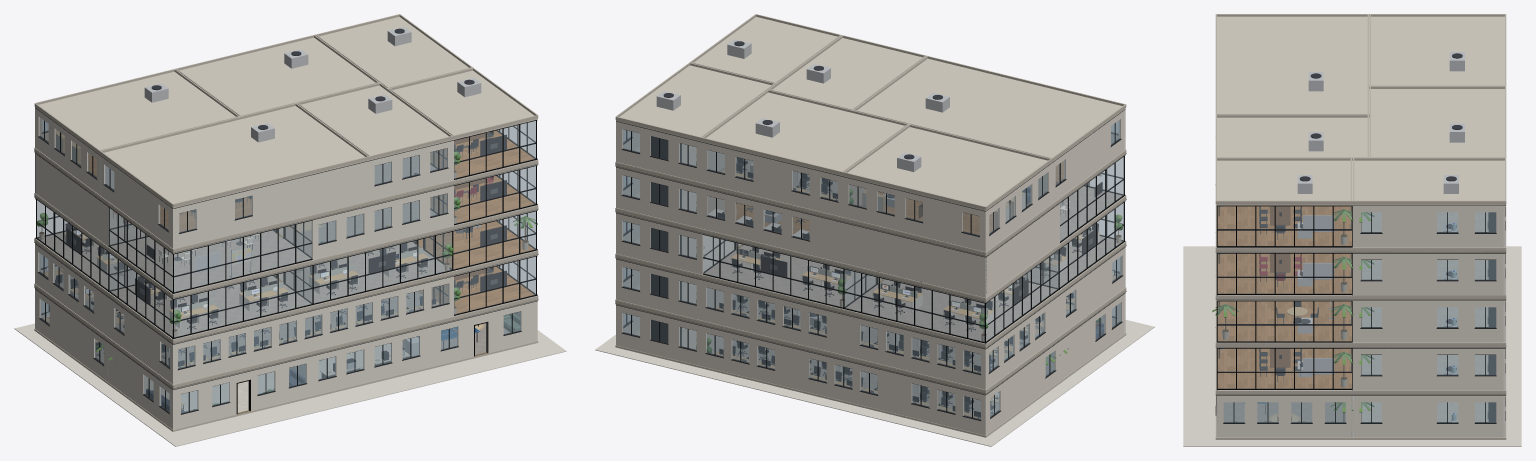
File: torre-5-andares.glb
3 views of the same model, side by side, from view 1: azimuth 30°, elevation 25°; view 2: azimuth 150°, elevation 25°; view 3: azimuth 270°, elevation 25° (orthographic). The views are drawn at different scales.
Parts seen in each view (by area): view 1: teto_malha (×5), paredes_malha (×4), divisorias_vidro_malha (×4), piso_carpete_malha (×4), esquadrias_malha (×5), janelas_malha (×4), terreno_malha, piso_madeira_malha (×4), laje_malha (×5), piso_porcelanato_malha, paredes_topo_malha, mesa-bancada_malha; view 2: paredes_malha (×5), teto_malha (×5), janelas_malha (×5), divisorias_vidro_malha (×2), piso_carpete_malha (×4), esquadrias_malha (×5), laje_malha (×5), terreno_malha, paredes_topo_malha (×3), piso_porcelanato_malha, piso_madeira_malha; view 3: teto_malha (×5), paredes_malha (×5), divisorias_vidro_malha (×4), piso_madeira_malha (×4), terreno_malha, janelas_malha (×5), esquadrias_malha (×5), laje_malha (×5), piso_porcelanato_malha (×5), quadro-parede_malha (×3), piso_carpete_malha, mesa-reuniao-longa_malha (×3).
Boxes of the visible parts, x1,y1,x2,y2 form: teto_malha (×5): (34,14,538,389); paredes_malha (×4): (35,108,537,429); divisorias_vidro_malha (×4): (37,121,535,337); piso_carpete_malha (×4): (38,155,450,364); esquadrias_malha (×5): (35,120,537,414); janelas_malha (×4): (39,117,520,413); terreno_malha: (14,323,566,446); piso_madeira_malha (×4): (89,130,534,313); laje_malha (×5): (34,147,538,431); piso_porcelanato_malha: (145,343,390,412); paredes_topo_malha: (35,289,537,389); mesa-bancada_malha: (239,282,288,311); paredes_malha (×5): (616,109,1125,435); teto_malha (×5): (615,14,1126,394); janelas_malha (×5): (623,120,1121,419); divisorias_vidro_malha (×2): (703,157,1123,341); piso_carpete_malha (×4): (704,186,1122,415); esquadrias_malha (×5): (621,123,1125,420); laje_malha (×5): (615,149,1126,437); terreno_malha: (595,320,1154,446); paredes_topo_malha (×3): (616,109,1125,395); piso_porcelanato_malha: (634,235,740,270); piso_madeira_malha: (861,161,1063,234); teto_malha (×5): (1215,14,1506,395); paredes_malha (×5): (1216,206,1505,437); divisorias_vidro_malha (×4): (1218,206,1351,388); piso_madeira_malha (×4): (1217,206,1351,388); terreno_malha: (1183,246,1521,446); janelas_malha (×5): (1223,212,1496,422); esquadrias_malha (×5): (1215,205,1505,423); laje_malha (×5): (1215,204,1506,439); piso_porcelanato_malha (×5): (1362,212,1488,421); quadro-parede_malha (×3): (1303,215,1334,374); piso_carpete_malha: (1224,402,1345,421); mesa-reuniao-longa_malha (×3): (1270,206,1290,374).
Bounding box in the file's own units: 28 × 16.21 × 20.
27 materials, 6 textured.
